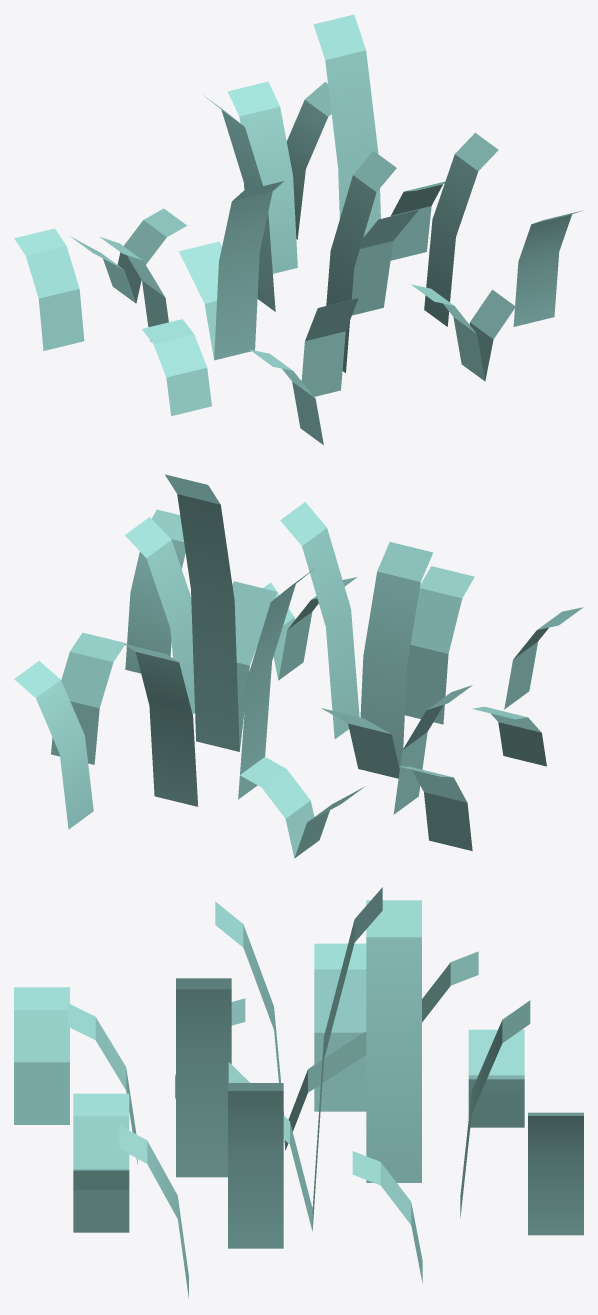
File: grass_dense.glb
The picture shows the model from 3 angles, top to bottom: view 1: azimuth 30°, elevation 25°; view 2: azimuth 150°, elevation 25°; view 3: azimuth 270°, elevation 25°; orthographic projection. The views are drawn at different scales.
Visible parts, largest first — view 1: grass_dense; view 2: grass_dense; view 3: grass_dense.
Part boxes in pixels (bbox=[...]): grass_dense: bbox=[14, 14, 582, 445]; grass_dense: bbox=[14, 474, 583, 858]; grass_dense: bbox=[14, 887, 583, 1298].
Size of the model in its own units: 0.409 by 0.254 by 0.4079.
